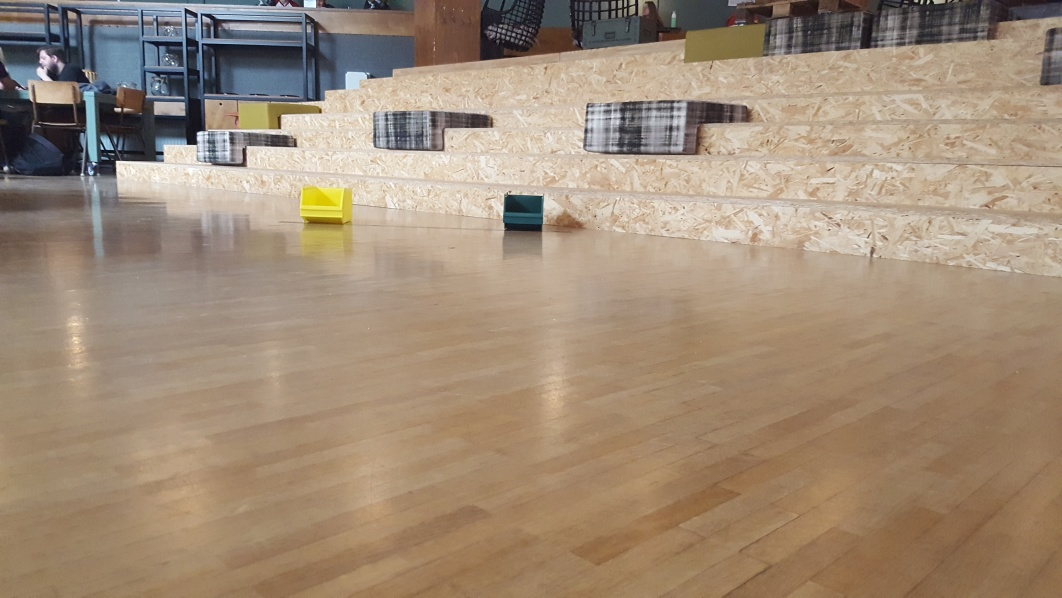tray: (297, 184, 357, 225), (500, 189, 546, 231)
